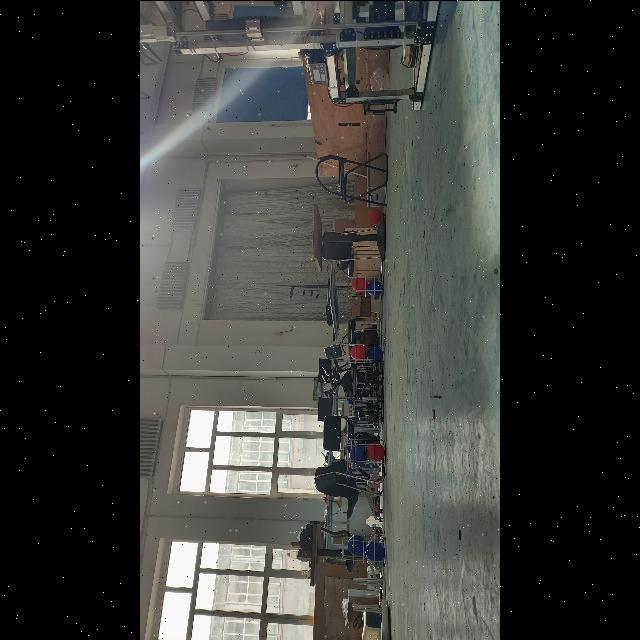B: (348, 534, 367, 558), (366, 541, 384, 561), (349, 444, 367, 464), (368, 344, 382, 362), (366, 280, 382, 294)
R: (368, 442, 384, 461), (350, 344, 366, 361), (352, 276, 368, 292)
S: (338, 530, 388, 566), (340, 438, 390, 466), (344, 340, 386, 366), (346, 272, 386, 298)
